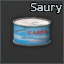Can of pacific saury: (0, 0, 64, 64)
